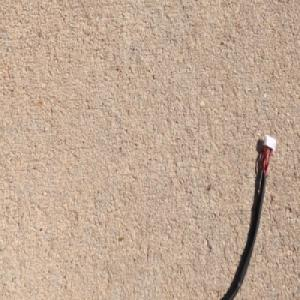Wire: (220, 132, 277, 300)
